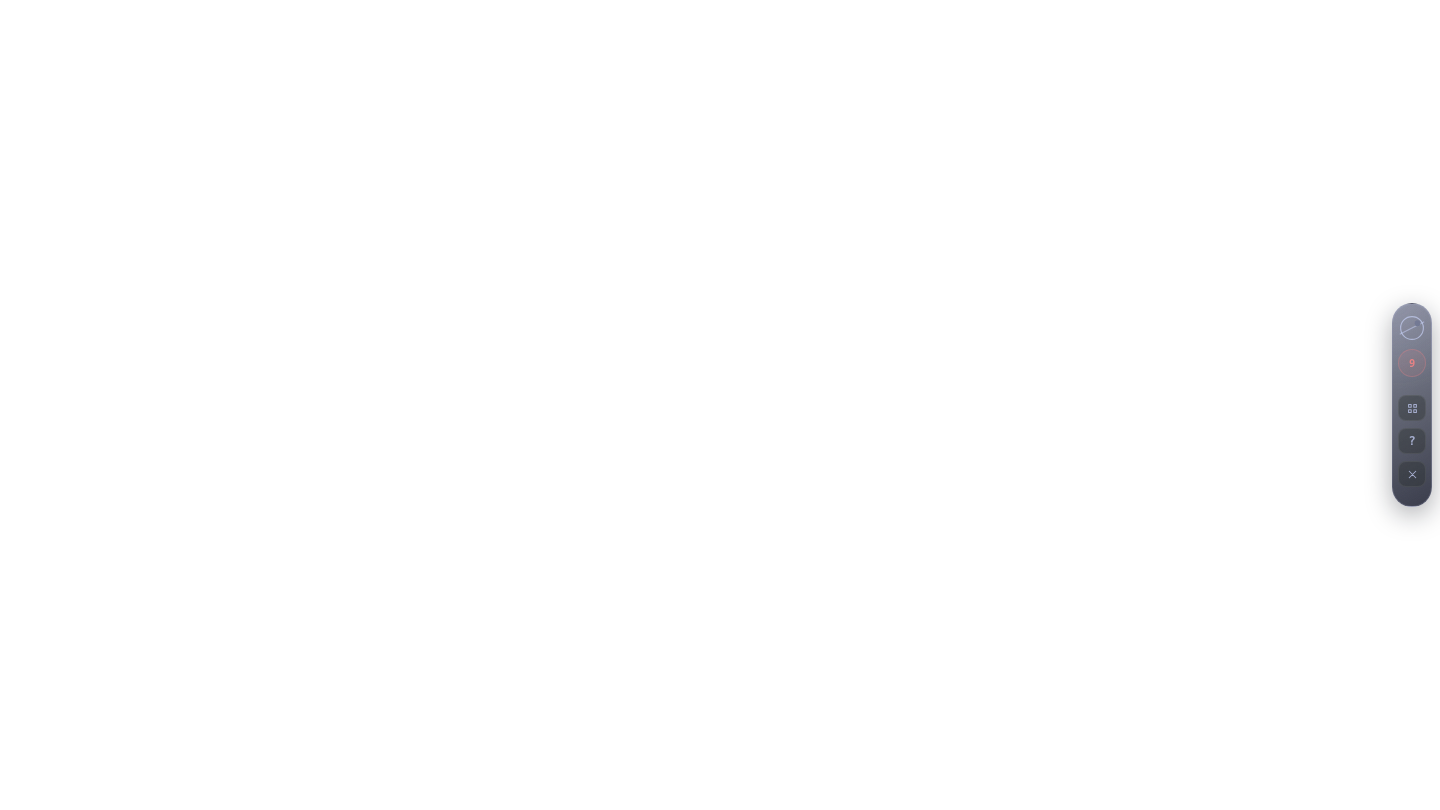
summoned hud › surfaces attention and completed conversations beside the collapsed rail
Step 1. Click the button named "Runtime demo; toggle focus drawer" → (1412, 328), box [1398,314,1426,342]
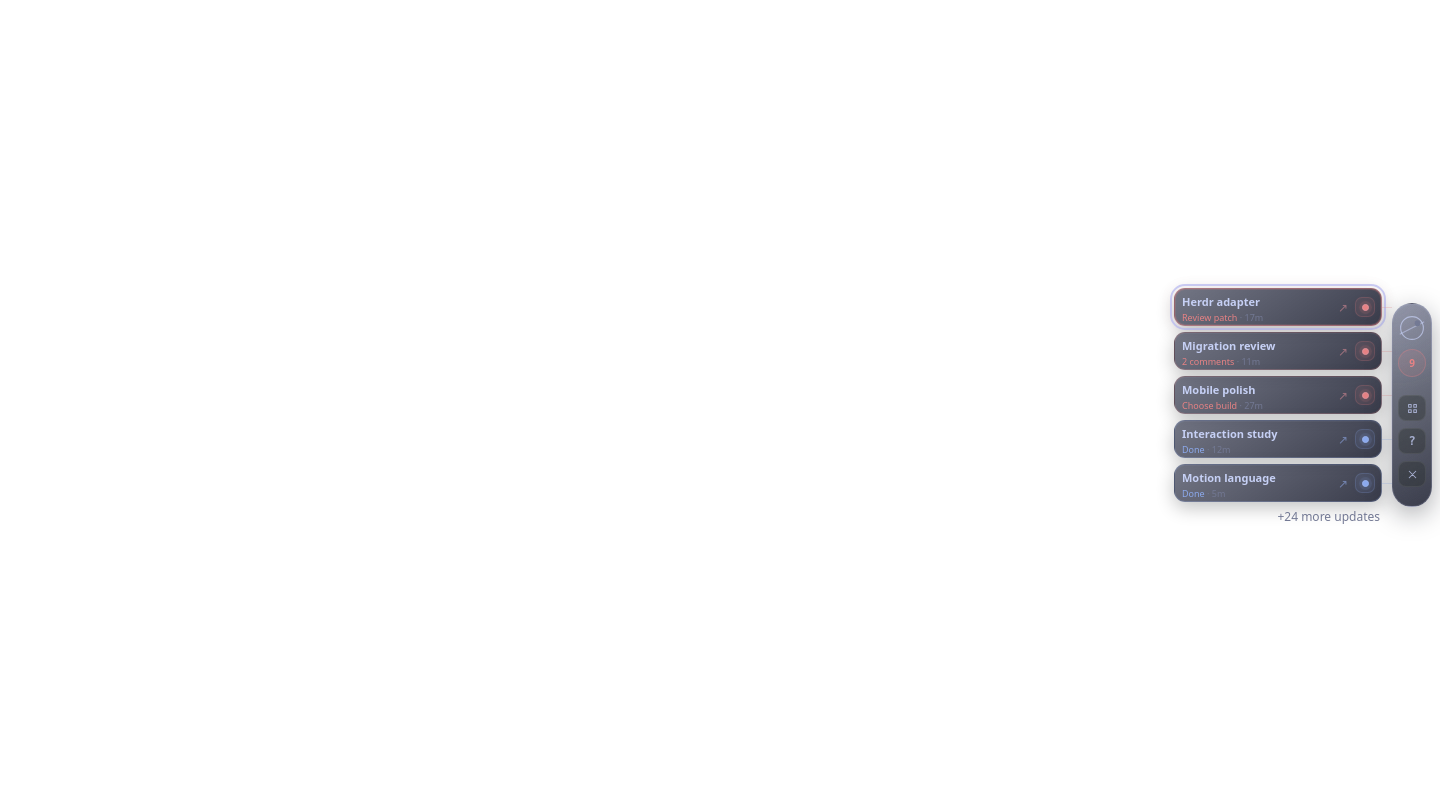
Expected: the button with aria-label "Herdr adapter · Review patch" is shown
Expected: the button with aria-label "Interaction study · Done" is shown, [1174,420,1382,458]
Expected: the button "+24 more updates" is shown, [1174,508,1382,522]
Step 2. Click the button "Herdr adapter Review patch · 17m ↗" → (1278, 307), box [1174,288,1382,326]
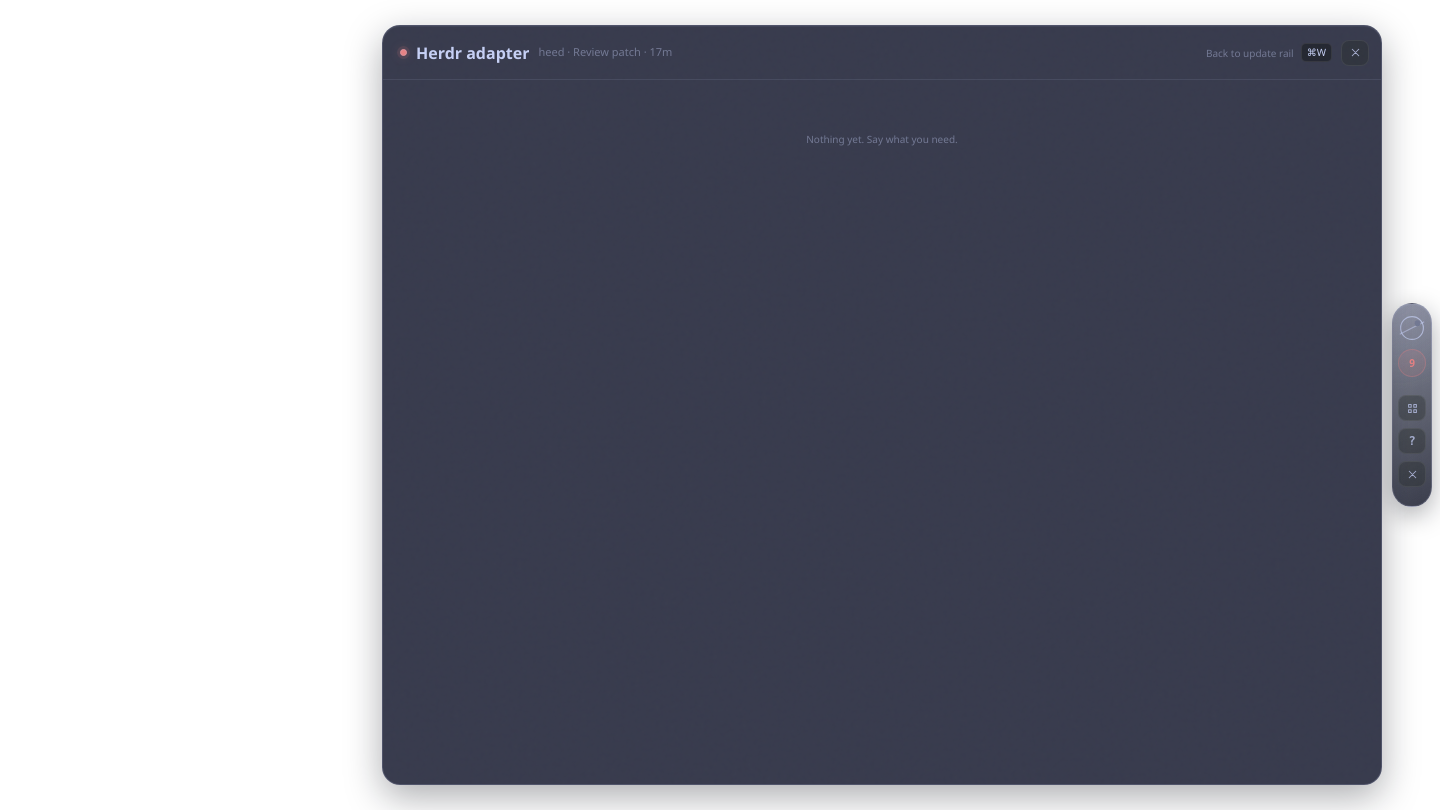
Expected: the element named "Terminal for Herdr adapter" is shown
